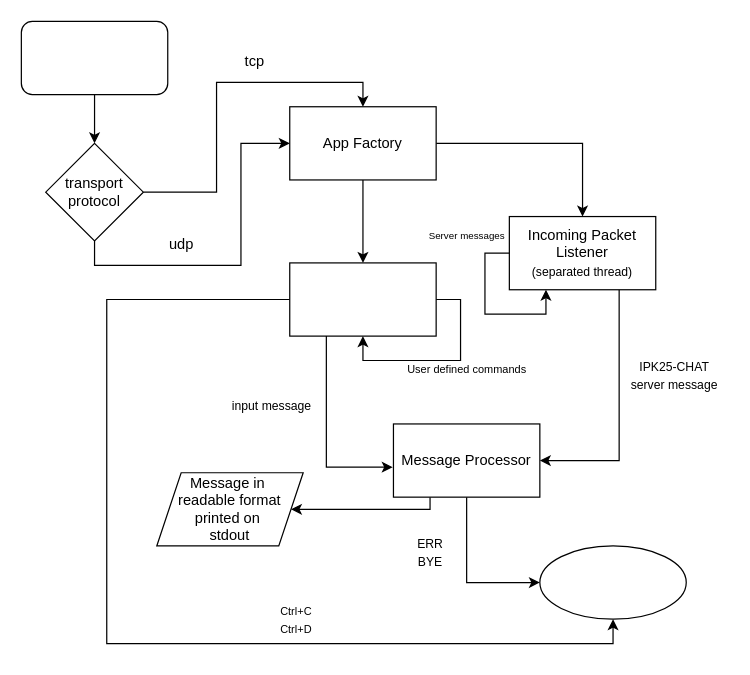
Image size: 750x675. Some labels were removed from this diagram. The centre of each missing label's shape, as x and y in pixels:
Command-line arguments parsing: point (94, 57)
Program termination: point (612, 582)
User Input Listener (main thread): point (362, 299)
